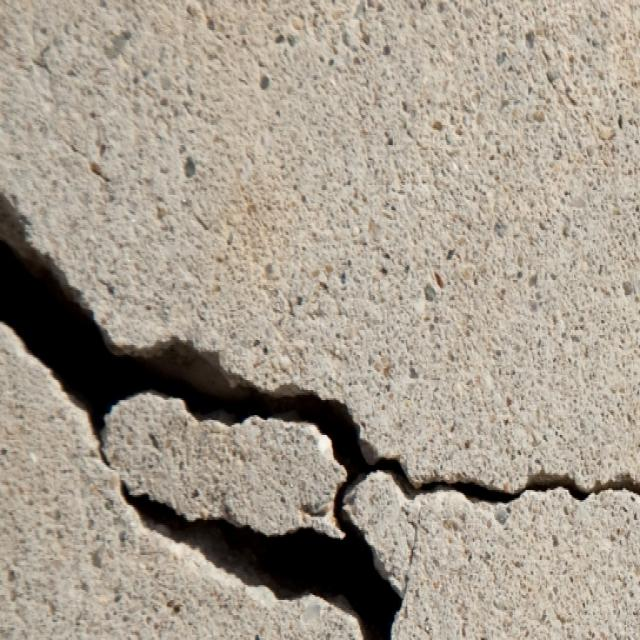crack: (1, 177, 639, 638)
